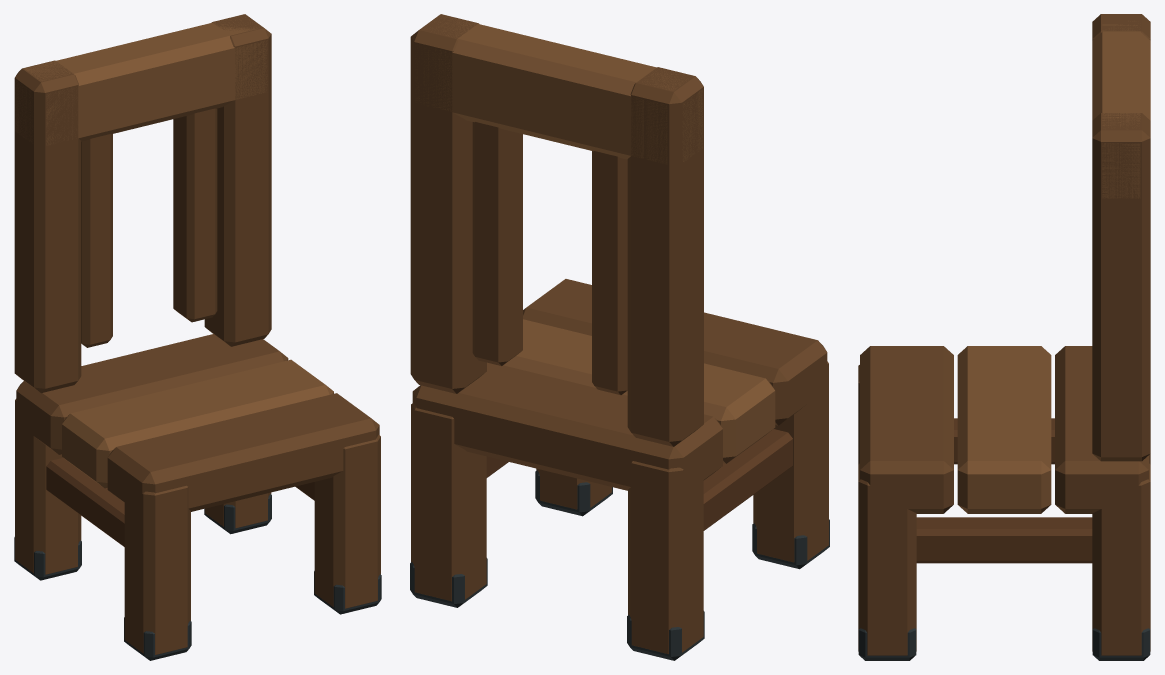
Rendered from wooden_chair_legacy.glb.
3 views of the same model, side by side, from view 1: azimuth 30°, elevation 25°; view 2: azimuth 150°, elevation 25°; view 3: azimuth 270°, elevation 25° (orthographic). The views are drawn at different scales.
Visible parts, largest first — view 1: wooden_chair_legacy; view 2: wooden_chair_legacy; view 3: wooden_chair_legacy.
Boxes of the visible parts, box(x1,y1,x2,y2) form: wooden_chair_legacy: box(14, 14, 381, 660); wooden_chair_legacy: box(410, 14, 829, 660); wooden_chair_legacy: box(858, 14, 1150, 660).
Bounding box in the file's own units: 1 × 2 × 1.
